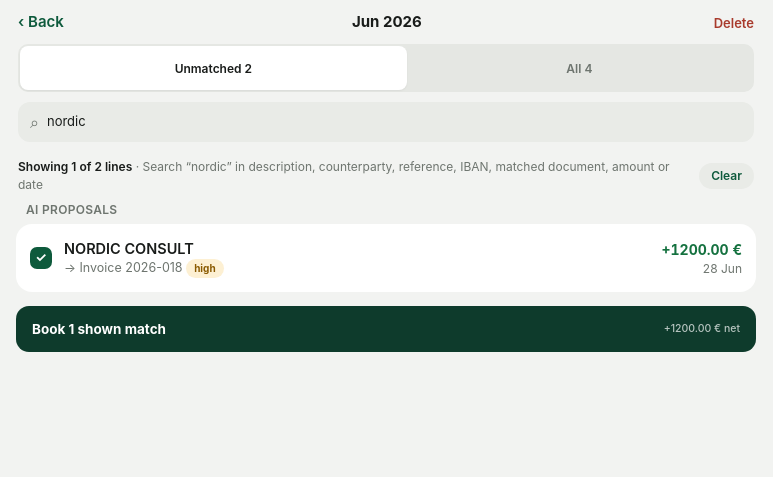
Test case: StatementScreen search (issue #278) › a cached proposal on a line booked meanwhile is never "hidden by the search" (with a search)
Click the button "Book 1 shown match +1200.00 € net": {"x": 50, "y": 329} [16,306,756,352]
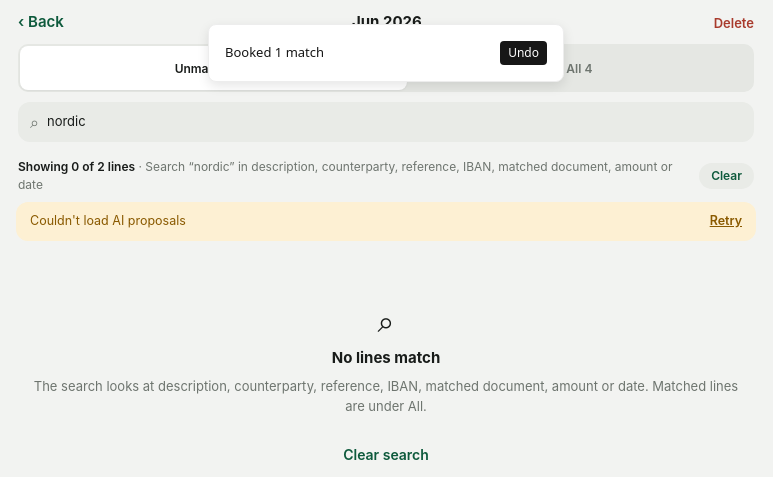
Now the text "Booked 1 match" is shown, box [225,43,324,63]
Now the text "Couldn't load AI proposals" is shown, box [30,212,186,231]
Now the button "Book 1 shown match" is gone
